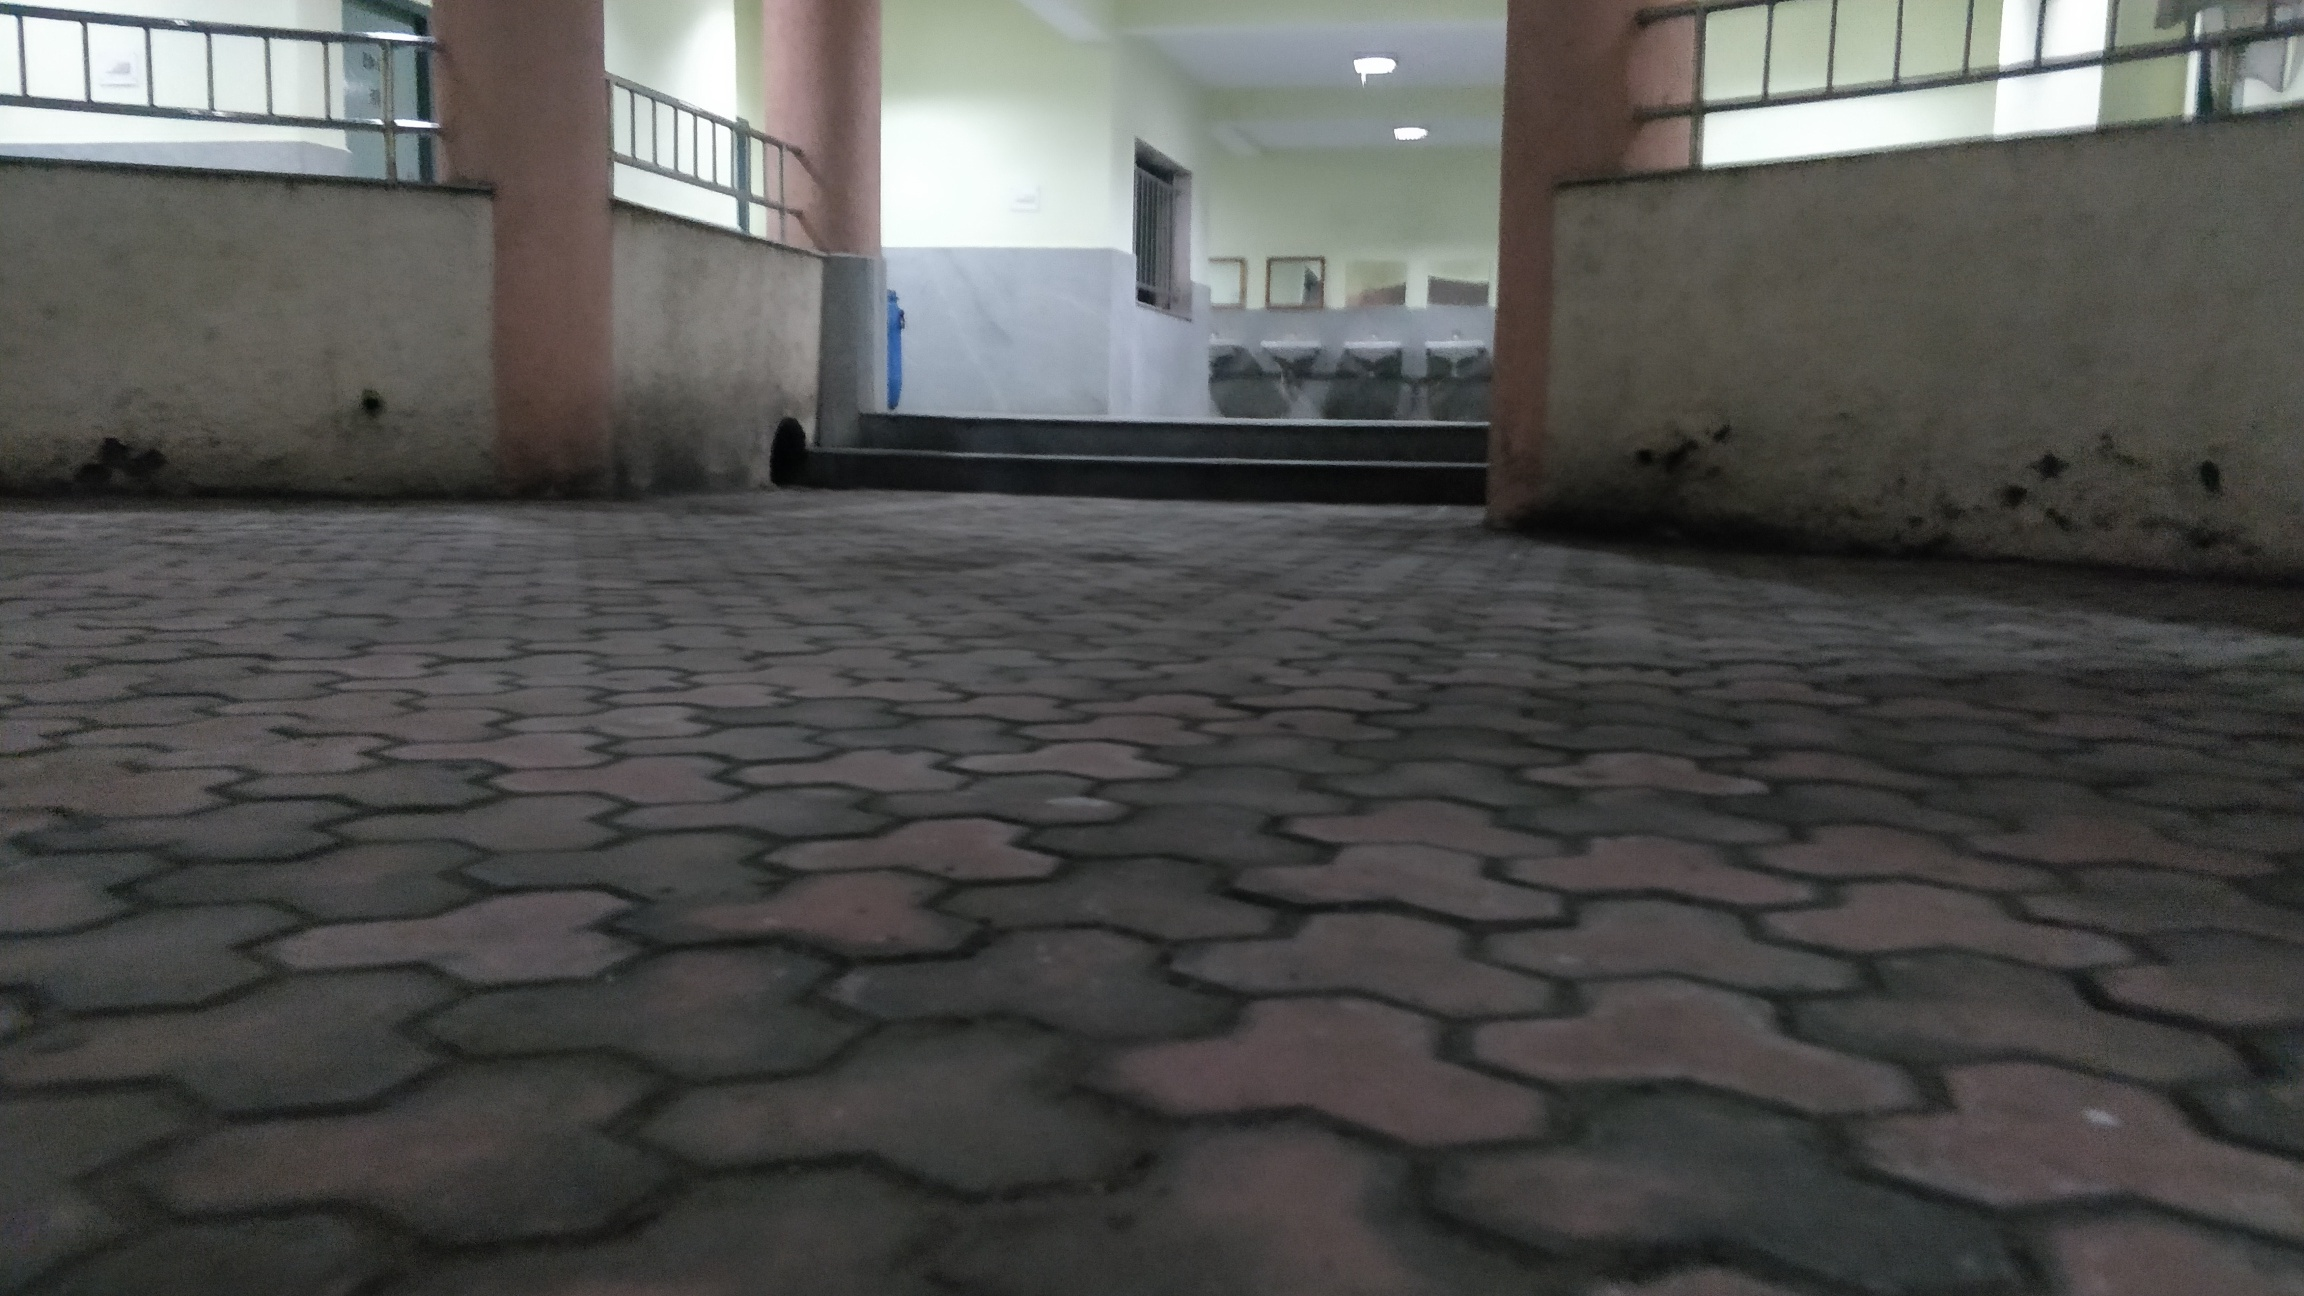stairs_up: (790, 415, 1494, 481)
